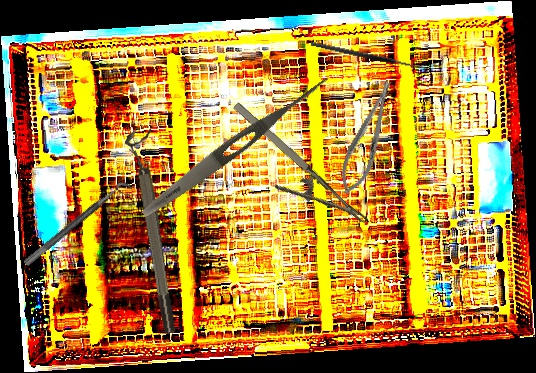Dressing Forceps: (137, 69, 333, 223)
Fixation Ring: (123, 128, 180, 336), (22, 177, 137, 276)
Hook Surgical: (310, 35, 431, 72)
Needle Holder: (213, 97, 369, 251), (332, 76, 404, 199)
